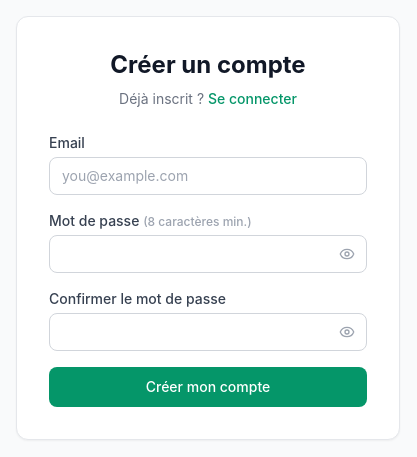
Test case: RegisterPage › shows confirmation message on successful registration
This screenshot has width=417, height=457.
Type "new@example.com" into the field labelled "Email" at {"x": 208, "y": 176}, box [49, 157, 367, 195]
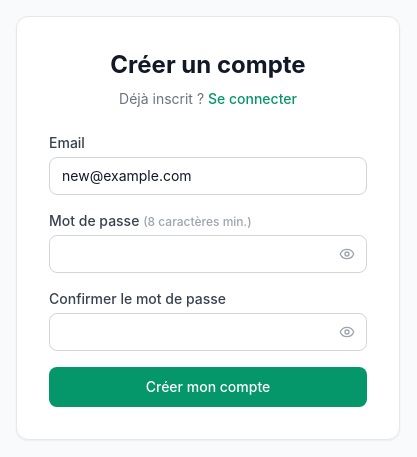
Type "securepass" into the password field labelled "Mot de passe (8 caractères min.)" at {"x": 208, "y": 254}, box [49, 235, 367, 273]
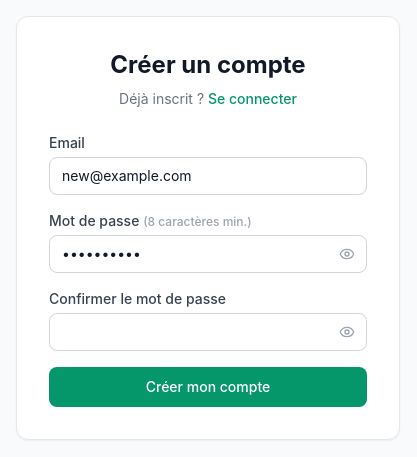
Type "securepass" into the password field labelled "Confirmer le mot de passe" at {"x": 208, "y": 332}, box [49, 313, 367, 351]
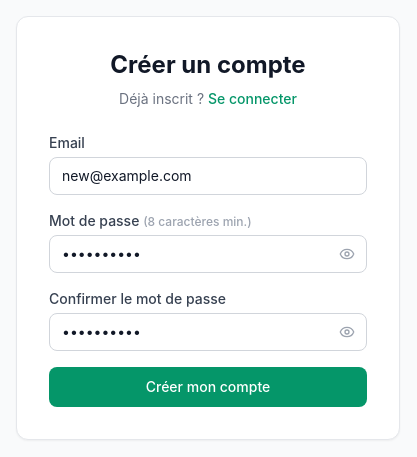
Click the button "Créer mon compte" at {"x": 208, "y": 387}, box [49, 367, 367, 407]
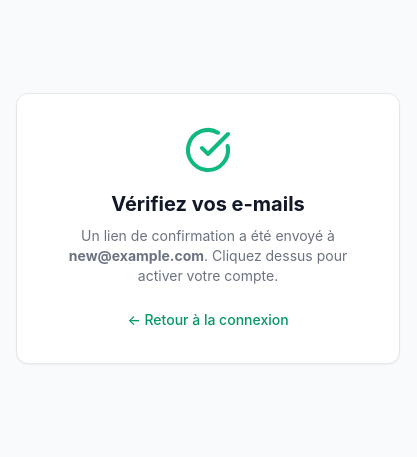
expect the heading "Vérifiez vos e-mails" is shown: met, box [111, 192, 305, 216]
